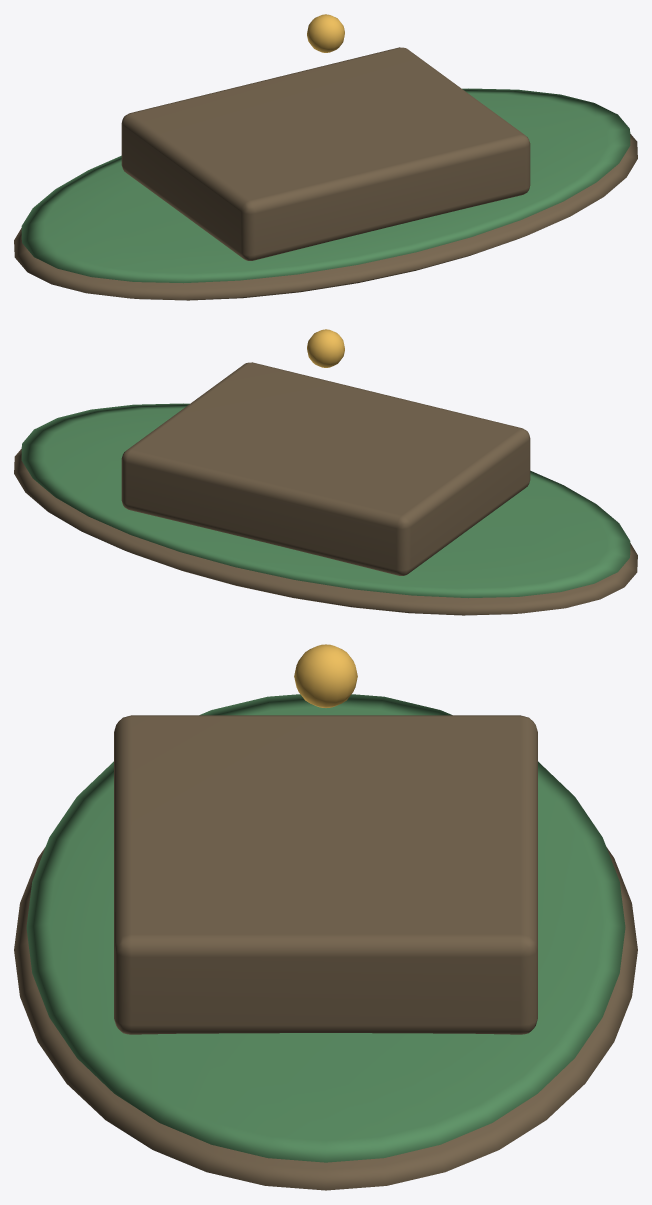
Rendered from place-dot.glb.
3 renders of one model, top to bottom at view 1: azimuth 30°, elevation 25°; view 2: azimuth 150°, elevation 25°; view 3: azimuth 270°, elevation 25°, orthographic. The views are drawn at different scales.
Parts seen in each view (by area): view 1: place-dot_surface_00, place-dot_surface_01, place-dot_surface_02; view 2: place-dot_surface_00, place-dot_surface_01, place-dot_surface_02; view 3: place-dot_surface_00, place-dot_surface_01, place-dot_surface_02.
Boxes of the visible parts, box(x1,y1,x2,y2) form: place-dot_surface_00: box(14, 47, 637, 300); place-dot_surface_01: box(21, 88, 630, 283); place-dot_surface_02: box(307, 14, 344, 52); place-dot_surface_00: box(14, 362, 637, 615); place-dot_surface_01: box(21, 403, 630, 598); place-dot_surface_02: box(307, 329, 344, 367); place-dot_surface_00: box(14, 715, 637, 1190); place-dot_surface_01: box(26, 694, 625, 1162); place-dot_surface_02: box(294, 644, 357, 707).
Bounding box in the file's own units: 4.56 × 1.47 × 2.5.
